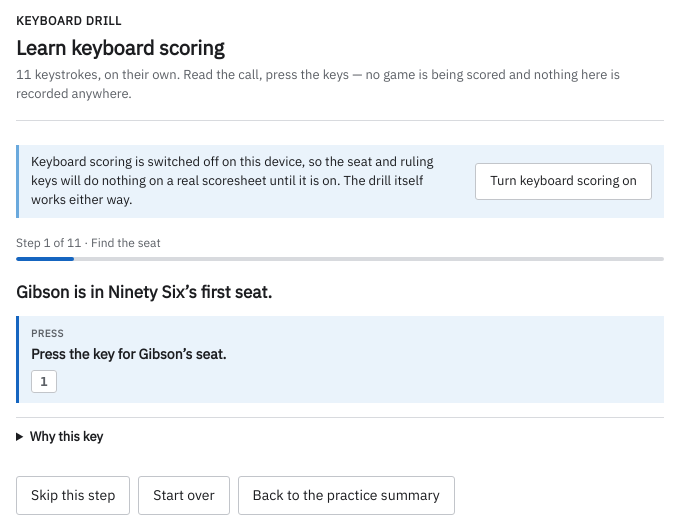
the drill itself › it offers the device preference rather than turning it on by itself
Expected: the text "Keyboard scoring is switched off on this device" is shown, top-left (31, 153), bottom-right (433, 208)
Step 1. Click the button "Turn keyboard scoring on" → x=564, y=181, box top-left (475, 163), bottom-right (652, 200)
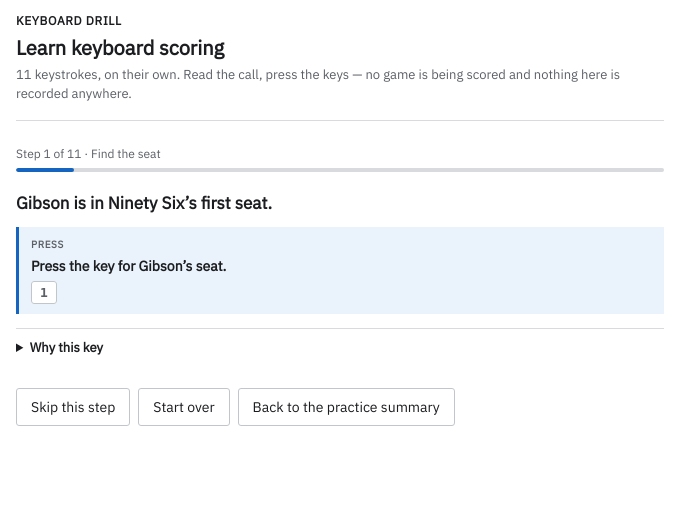
Now the button "Turn keyboard scoring on" is gone
